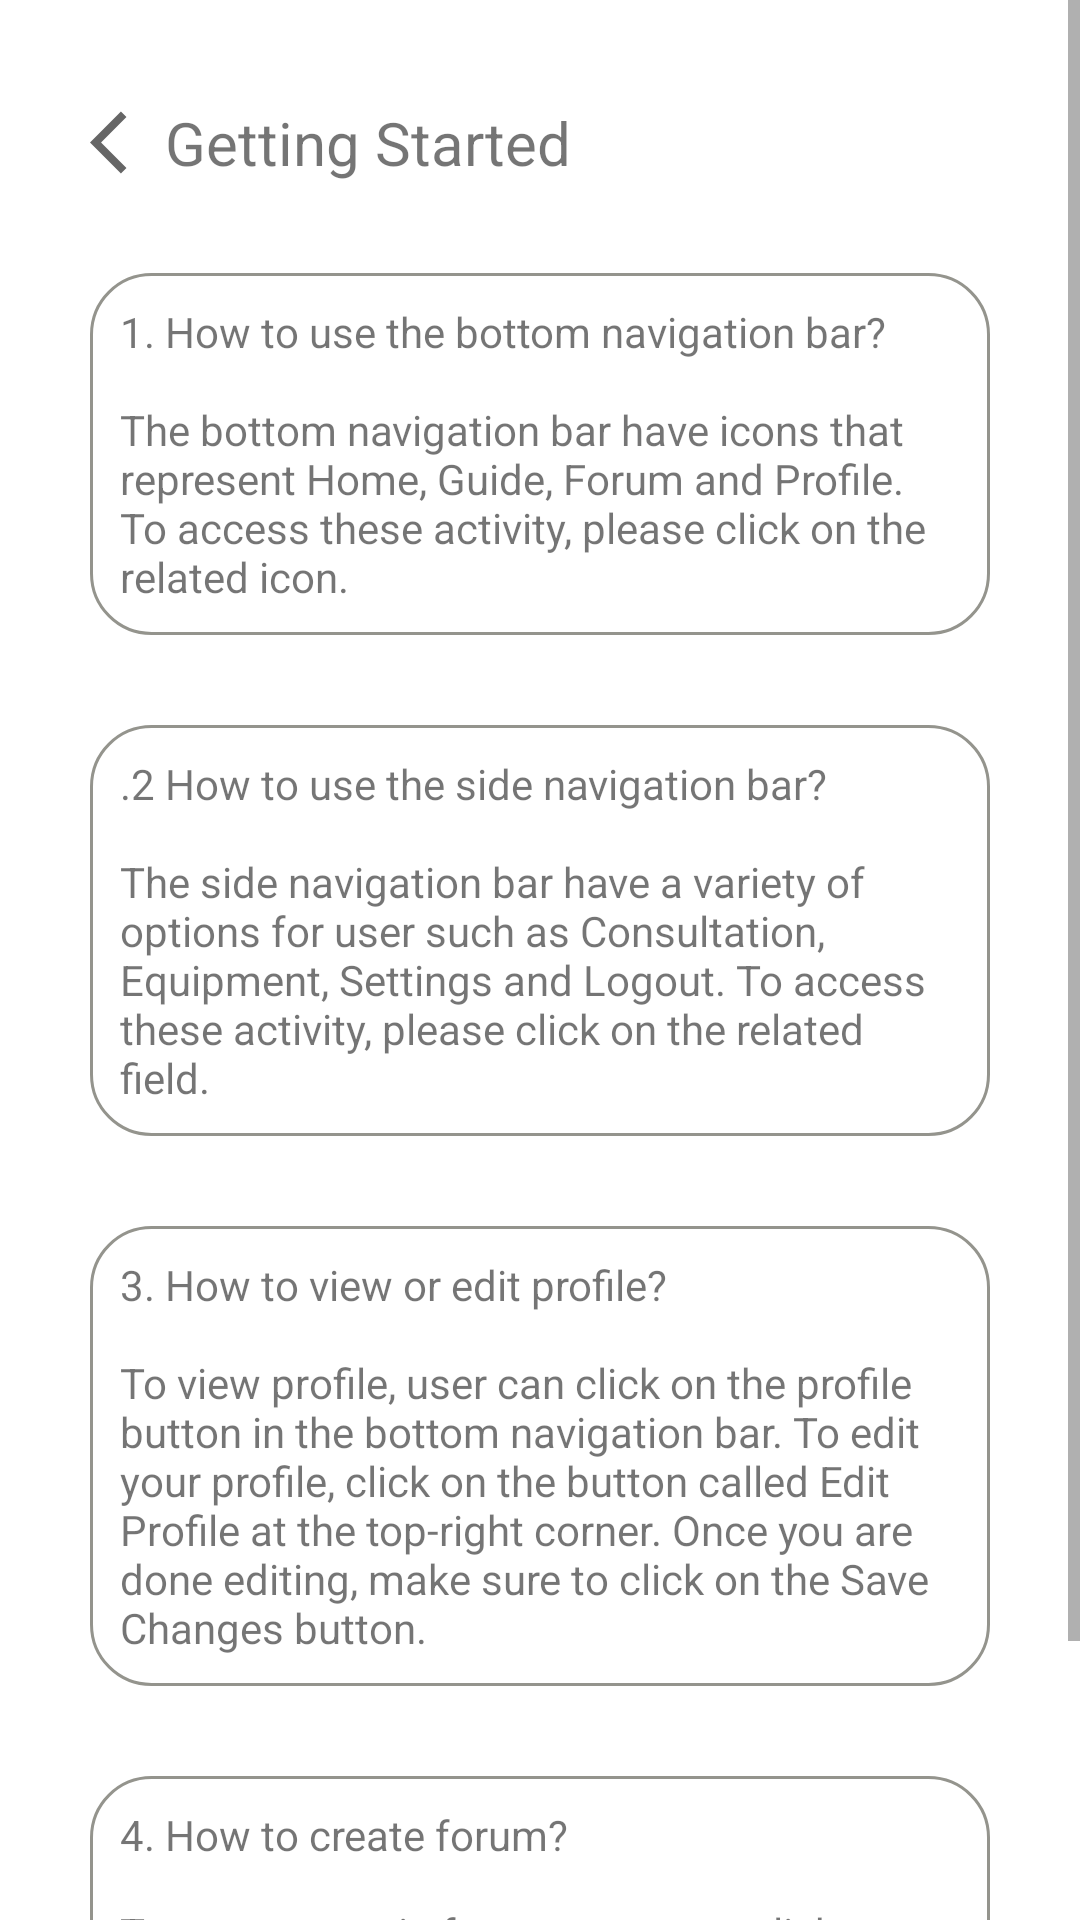

Named icons in this screenshot (1080px x 1920px) and their centers, (x,y):
back arrow: (108,143)
